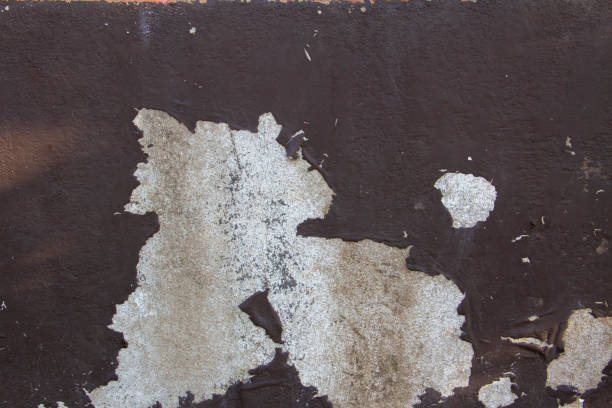wall_peeling: (87, 105, 612, 408)
